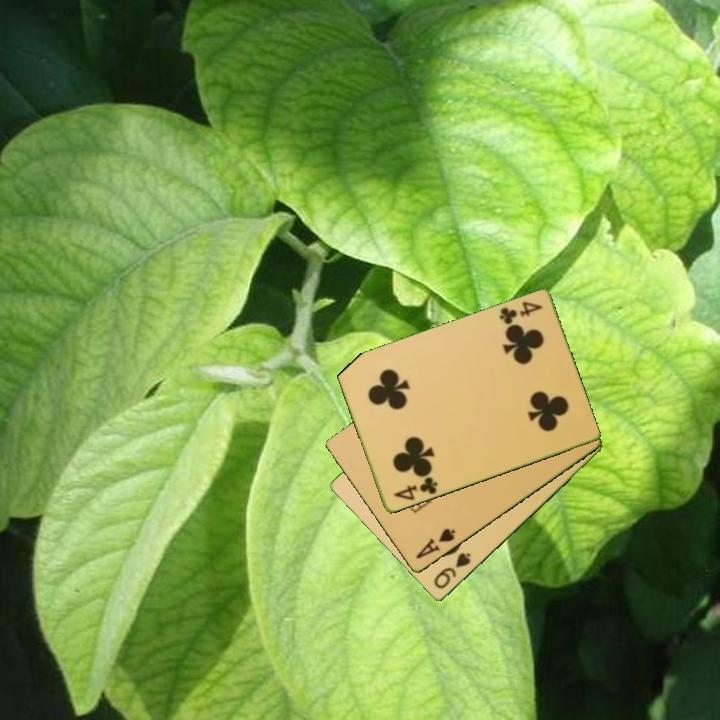4c: (390, 473, 440, 504), (496, 298, 545, 328)
9s: (430, 549, 474, 592)
As: (412, 525, 459, 562)
